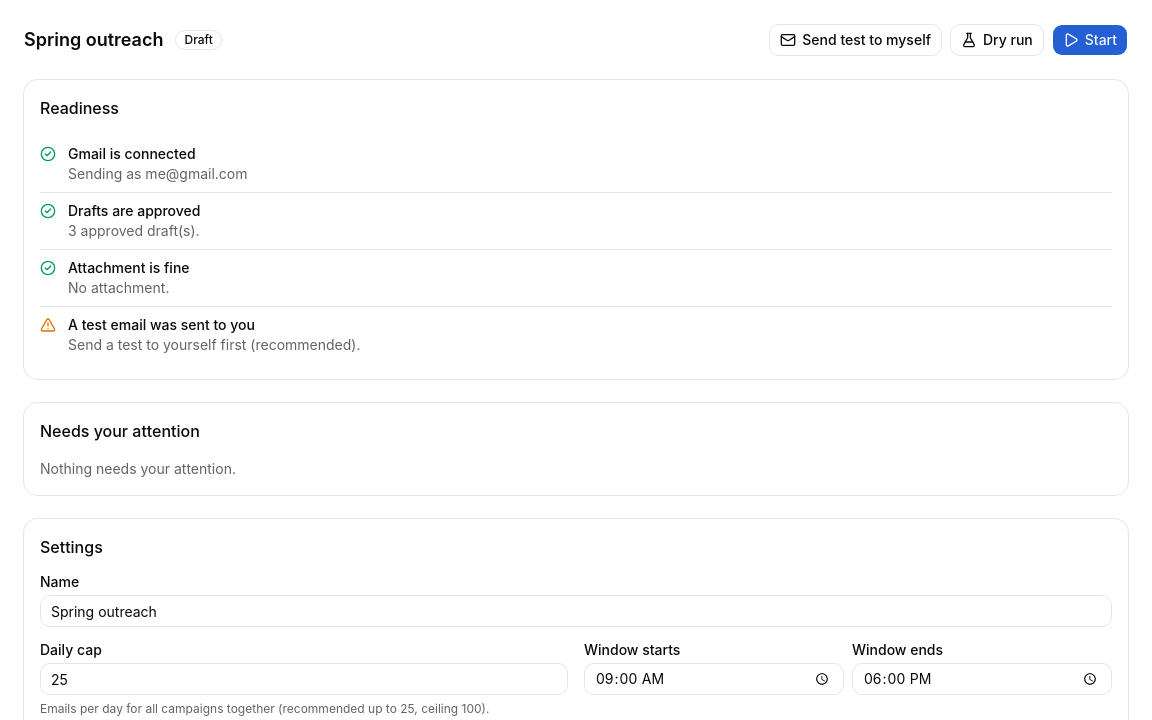
Test: campaign detail › runs a dry run and lists each decision
Click the button "Dry run".
click(997, 40)  # box left=950, top=24, right=1044, bottom=56
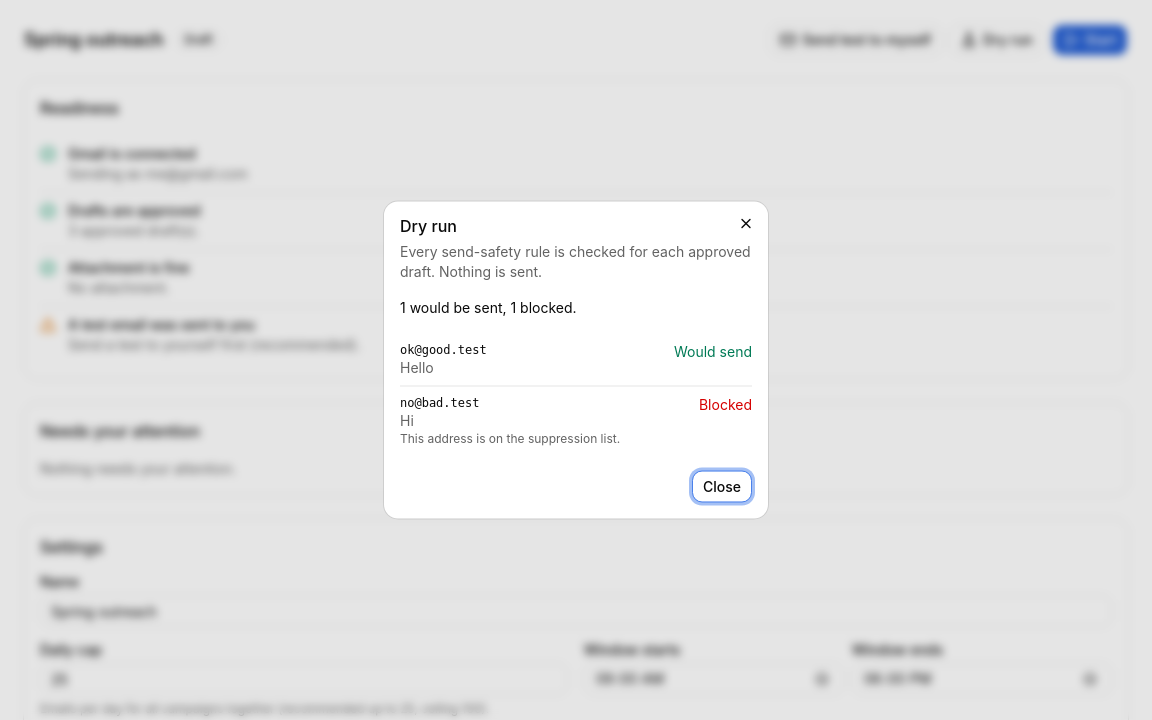
Expected: the text with test id "dry-summary" shows "1 would be sent, 1 blocked", left=400, top=298, right=577, bottom=316
Expected: the text "This address is on the suppression list." is shown, left=400, top=430, right=620, bottom=446
